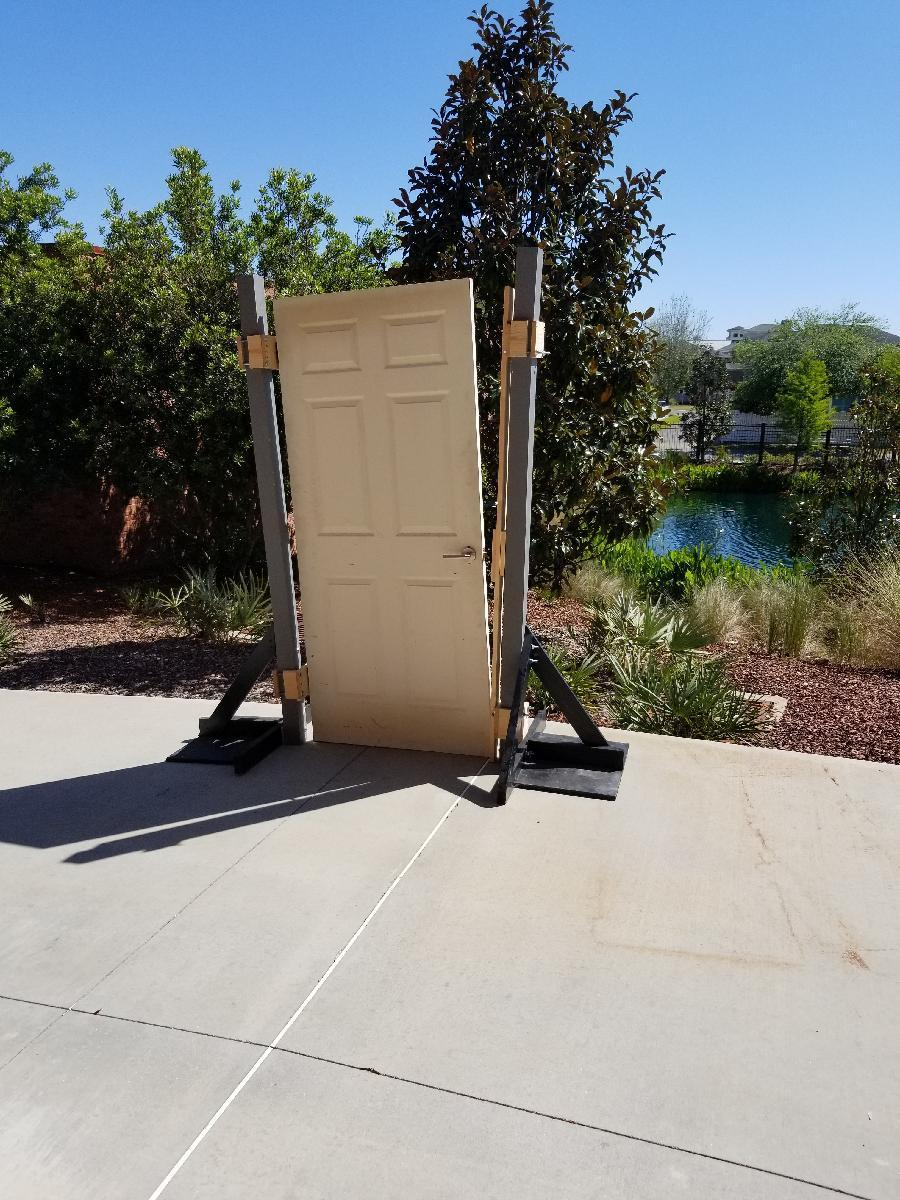door: (270, 276, 501, 776)
handle: (441, 546, 478, 564)
